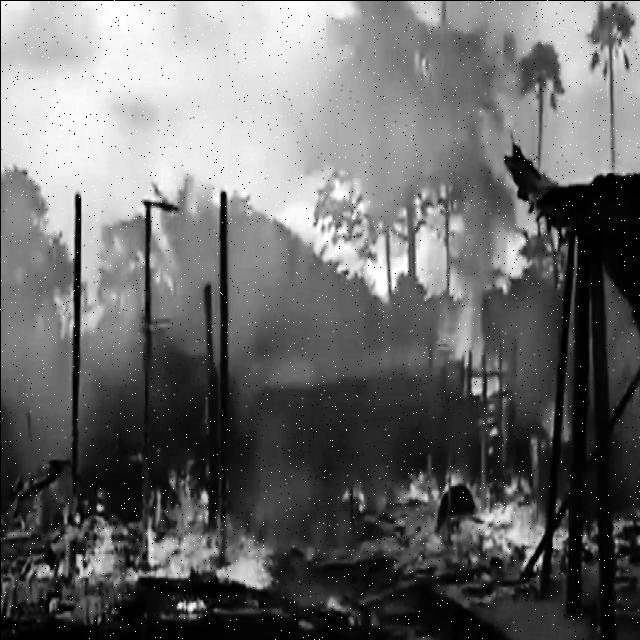api: (143, 438, 281, 621), (418, 173, 510, 391), (470, 467, 633, 581), (13, 515, 126, 601), (397, 462, 467, 516)
asap: (273, 1, 556, 243)
